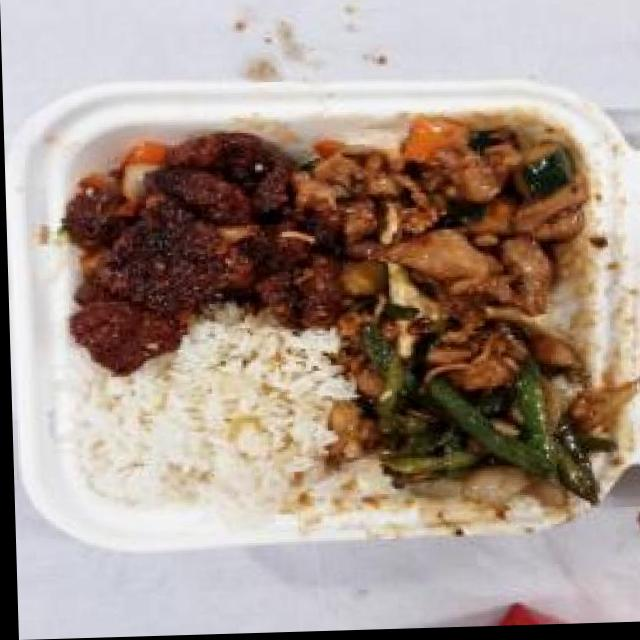Beijing Beef: (56, 125, 332, 385)
Kung Pao Chicken: (313, 109, 598, 331)
String Bean Chicken Breast: (348, 311, 597, 512)
White Steamed Rice: (78, 339, 340, 523)
